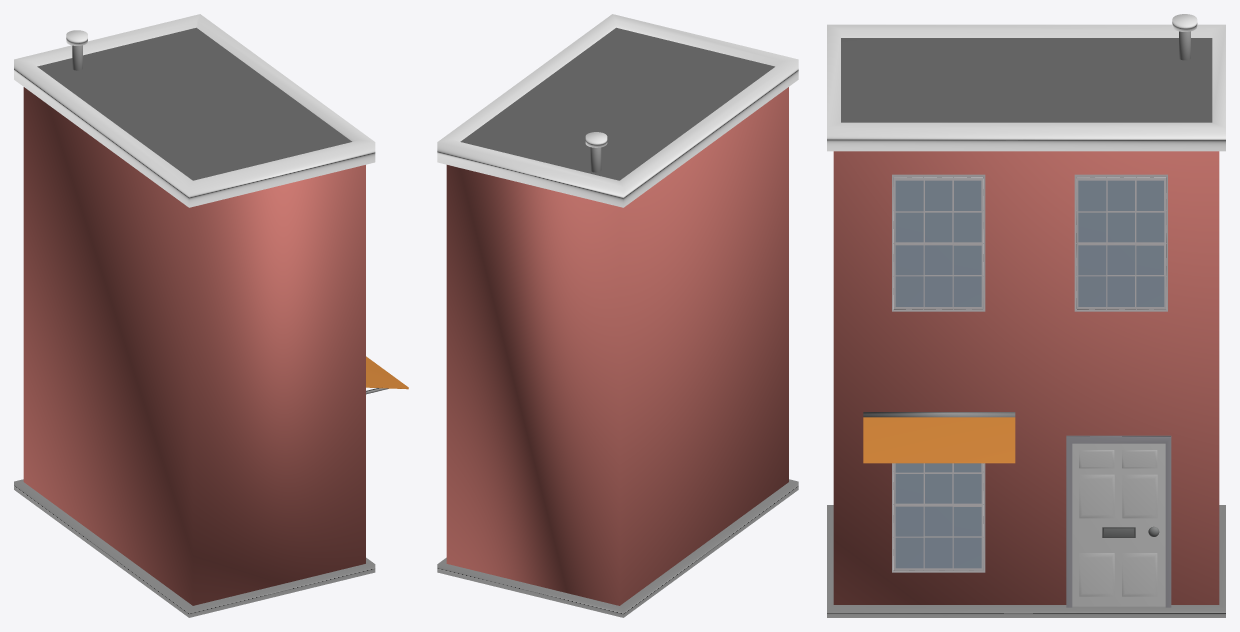
Rendered from townhouse2.fbx.
3 renders of one model, left to right at view 1: azimuth 30°, elevation 25°; view 2: azimuth 150°, elevation 25°; view 3: azimuth 270°, elevation 25°, orthographic. The views are drawn at different scales.
Parts seen in each view (by area): view 1: Cube, Cube.003, Cube.001, Cube.002, Cube.017; view 2: Cube, Cube.003, Cube.001, Cube.002; view 3: Cube, Cube.003, Cube.001, Cube.014, Cube.011, Cube.012, Cube.013, Cube.010, Cube.009, Cube.007, Cube.005, Cube.017 (+3 smaller).
Part boxes in pixels (left/top/right/bottom): Cube: left=23, top=87, right=365, bottom=605; Cube.003: left=37, top=27, right=351, bottom=180; Cube.001: left=14, top=14, right=375, bottom=207; Cube.002: left=14, top=479, right=375, bottom=617; Cube.017: left=366, top=356, right=408, bottom=389; Cube: left=446, top=87, right=788, bottom=605; Cube.003: left=460, top=27, right=774, bottom=180; Cube.001: left=437, top=14, right=798, bottom=207; Cube.002: left=437, top=479, right=798, bottom=617; Cube: left=833, top=151, right=1219, bottom=604; Cube.003: left=841, top=38, right=1212, bottom=122; Cube.001: left=827, top=24, right=1225, bottom=151; Cube.014: left=1074, top=174, right=1167, bottom=311; Cube.011: left=892, top=174, right=985, bottom=311; Cube.012: left=895, top=180, right=981, bottom=306; Cube.013: left=1078, top=180, right=1164, bottom=306; Cube.010: left=892, top=463, right=985, bottom=572; Cube.009: left=895, top=463, right=981, bottom=568; Cube.007: left=1072, top=443, right=1165, bottom=606; Cube.005: left=1079, top=450, right=1157, bottom=596; Cube.017: left=863, top=417, right=1015, bottom=463.
Size of the model in its own units: 209 by 388 by 269.
